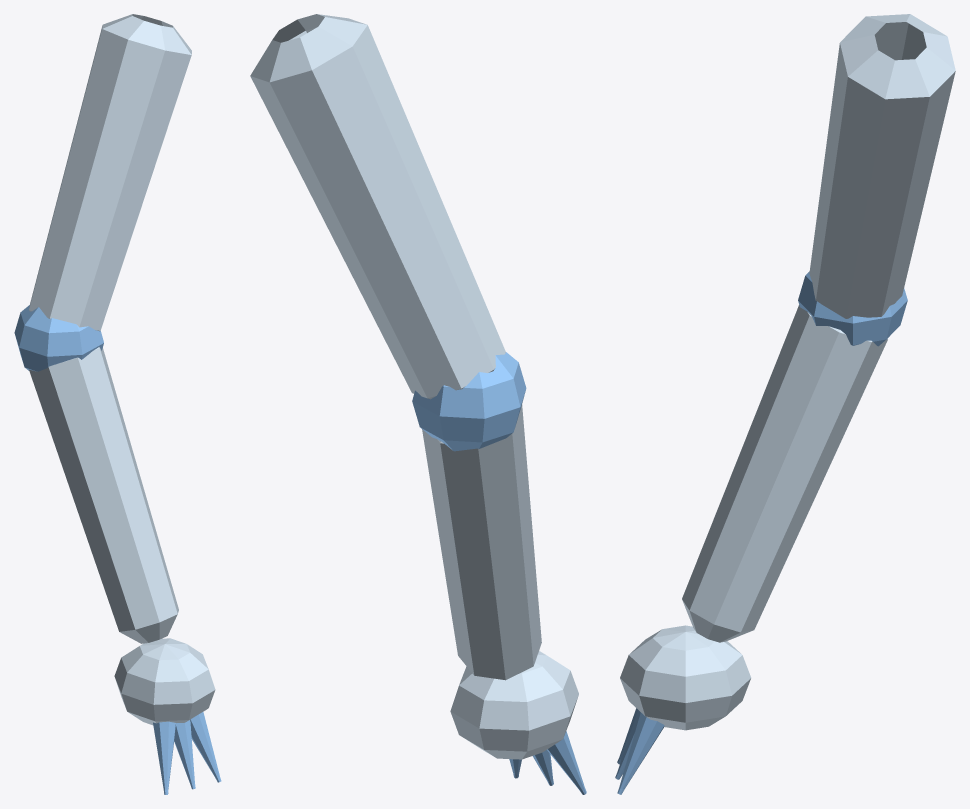
File: frost_skeleton_arm_L.obj
3 renders of one model, left to right at view 1: azimuth 30°, elevation 25°; view 2: azimuth 150°, elevation 25°; view 3: azimuth 270°, elevation 25°, orthographic. The views are drawn at different scales.
Parts seen in each view (by area): view 1: arm_upper_L, arm_lower_L, hand_L, arm_joint_L, claw_L_0, claw_L_2, claw_L_1; view 2: arm_upper_L, arm_lower_L, hand_L, arm_joint_L, claw_L_0; view 3: arm_upper_L, arm_lower_L, hand_L, arm_joint_L, claw_L_2.
Part boxes in pixels (<box>): arm_upper_L: <box>29,14,191,331</box>; arm_lower_L: <box>29,347,178,643</box>; hand_L: <box>114,638,215,725</box>; arm_joint_L: <box>14,305,103,371</box>; claw_L_0: <box>153,721,175,794</box>; claw_L_2: <box>190,712,221,782</box>; claw_L_1: <box>174,720,195,789</box>; arm_upper_L: <box>250,14,505,399</box>; arm_lower_L: <box>422,404,541,680</box>; hand_L: <box>450,651,578,759</box>; arm_joint_L: <box>412,352,526,451</box>; claw_L_0: <box>547,731,586,794</box>; arm_upper_L: <box>809,14,955,318</box>; arm_lower_L: <box>682,305,887,642</box>; hand_L: <box>620,625,751,730</box>; arm_joint_L: <box>798,271,907,346</box>; claw_L_2: <box>617,712,664,794</box>.
Size of the model in its own units: 0.2251 by 0.7723 by 0.3005.
